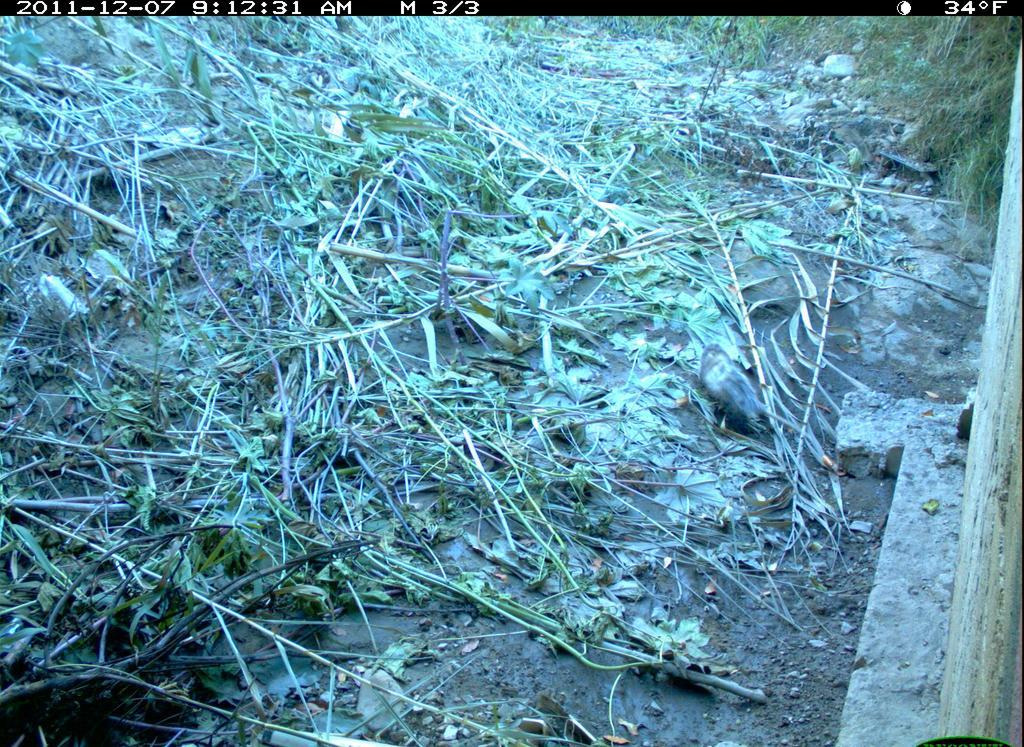opossum: (688, 331, 779, 454)
